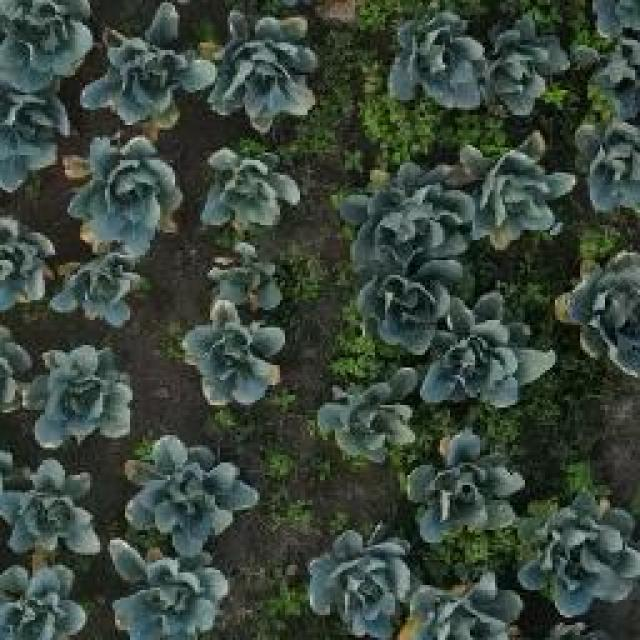cabbage: (84, 7, 210, 128), (130, 439, 260, 552), (66, 132, 185, 255), (345, 155, 470, 269), (102, 542, 238, 640), (418, 292, 530, 410), (211, 10, 321, 130), (522, 495, 632, 613), (378, 0, 488, 118), (178, 298, 288, 416), (410, 429, 517, 543), (22, 344, 136, 445), (469, 140, 575, 243), (0, 461, 104, 562), (310, 536, 412, 630), (562, 257, 640, 377), (480, 12, 563, 114), (320, 368, 414, 456), (0, 0, 92, 87), (205, 149, 303, 230), (360, 268, 446, 351), (0, 566, 96, 640), (54, 255, 151, 328), (408, 580, 524, 640), (0, 92, 74, 186), (575, 124, 640, 217), (210, 242, 284, 310)
